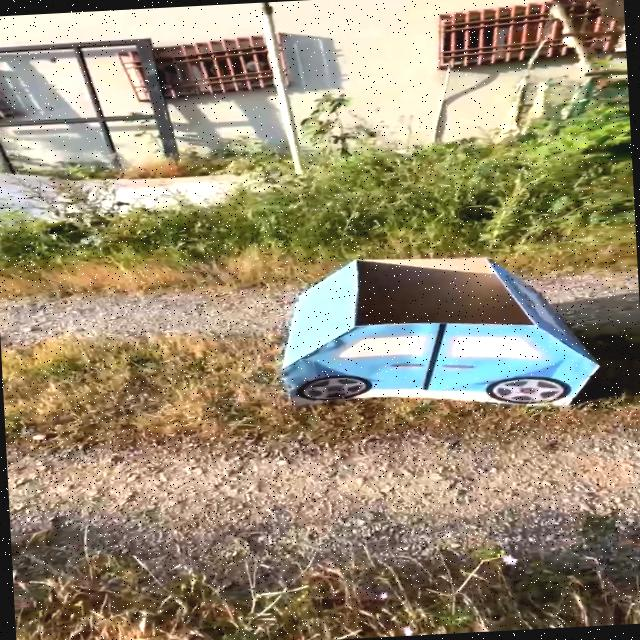blue_car: (207, 220, 640, 459)
